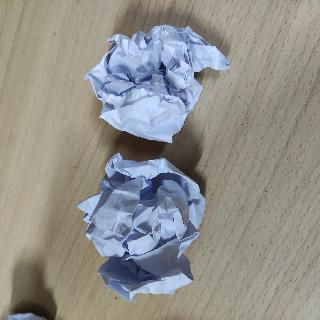8/可回收垃圾/纸: (74, 151, 207, 305), (82, 23, 231, 145)
